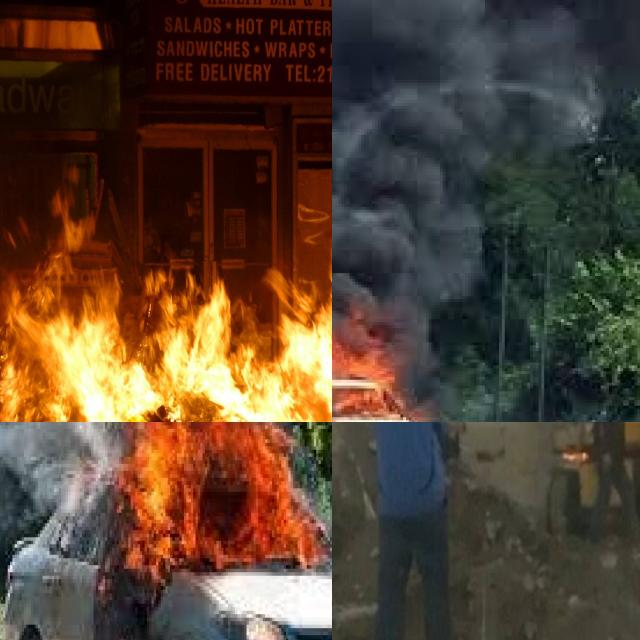fire: (0, 250, 332, 422), (109, 422, 327, 583), (332, 299, 437, 422)
smoke: (332, 0, 640, 400)
